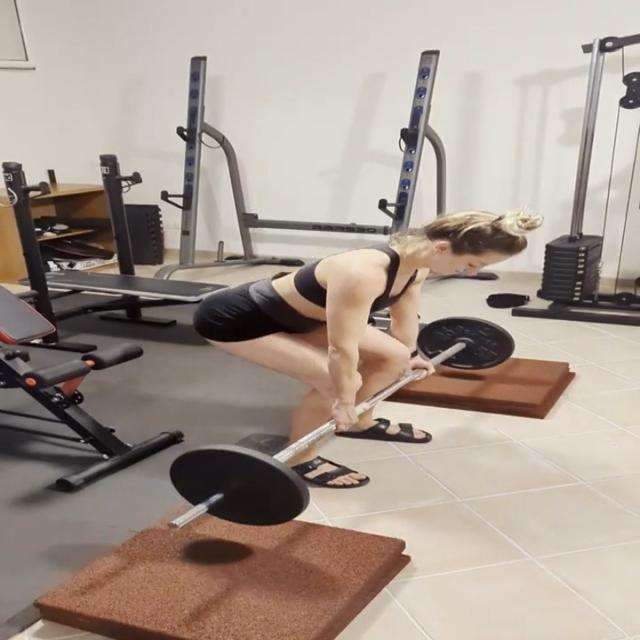barbell: (166, 443, 315, 537)
